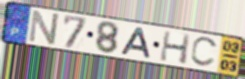7: (62, 13, 89, 50)
8: (93, 20, 121, 55)
A: (119, 26, 152, 60)
C: (189, 36, 220, 69)
H: (158, 30, 192, 66)
N: (27, 8, 61, 46)
